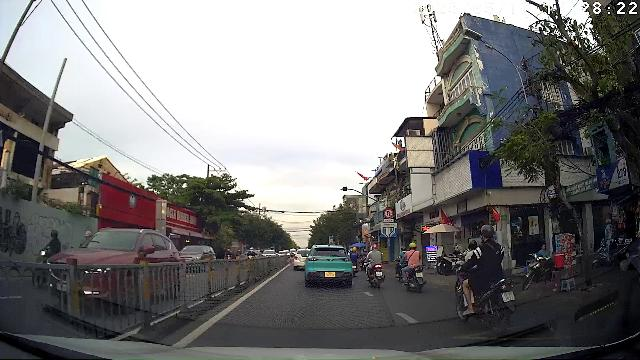124b-cam-oto-quay-dau-xe: (384, 208, 394, 218)
